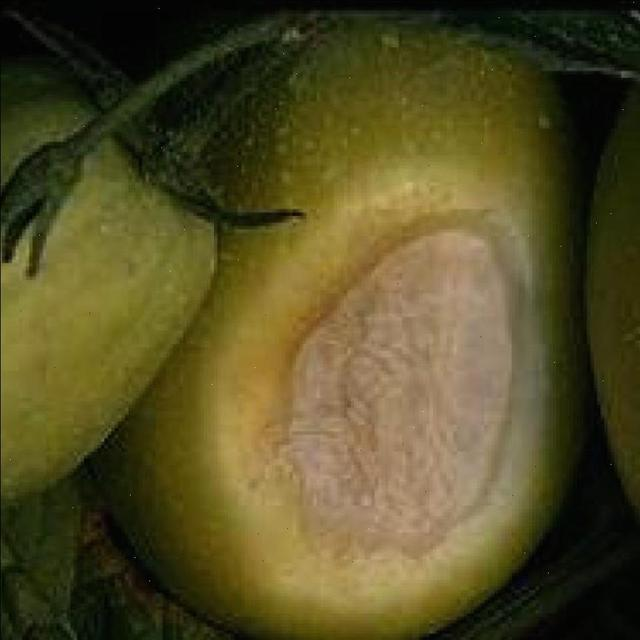Sunscald Fruit: (168, 133, 349, 401)
